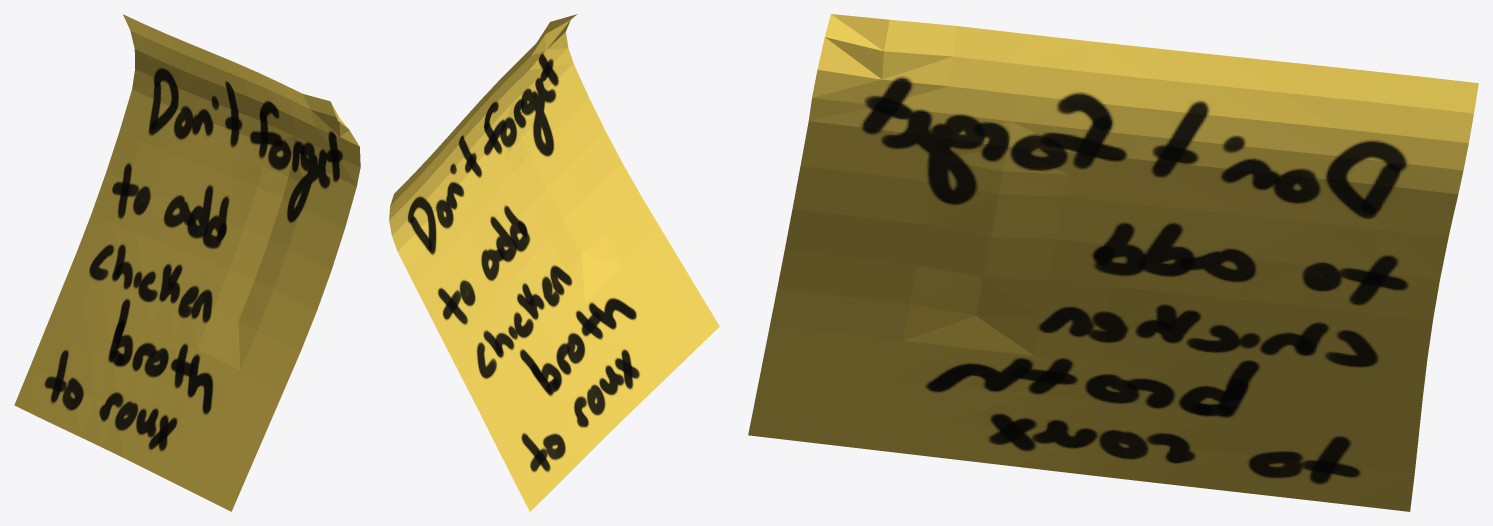
The model's file is SM_StickyNotes_05.fbx.
3 views of the same model, side by side, from view 1: azimuth 30°, elevation 25°; view 2: azimuth 150°, elevation 25°; view 3: azimuth 270°, elevation 25° (orthographic). The views are drawn at different scales.
Parts seen in each view (by area): view 1: SM_StickyNotes_05_LOD0; view 2: SM_StickyNotes_05_LOD0; view 3: SM_StickyNotes_05_LOD0.
Boxes of the visible parts, x1=… form: SM_StickyNotes_05_LOD0: x1=14, y1=14, x2=360, y2=511; SM_StickyNotes_05_LOD0: x1=389, y1=14, x2=719, y2=511; SM_StickyNotes_05_LOD0: x1=748, y1=14, x2=1478, y2=511.
Bounding box in the file's own units: 4.6 × 12.33 × 11.21.
Materials: 1 (1 with a texture image).
